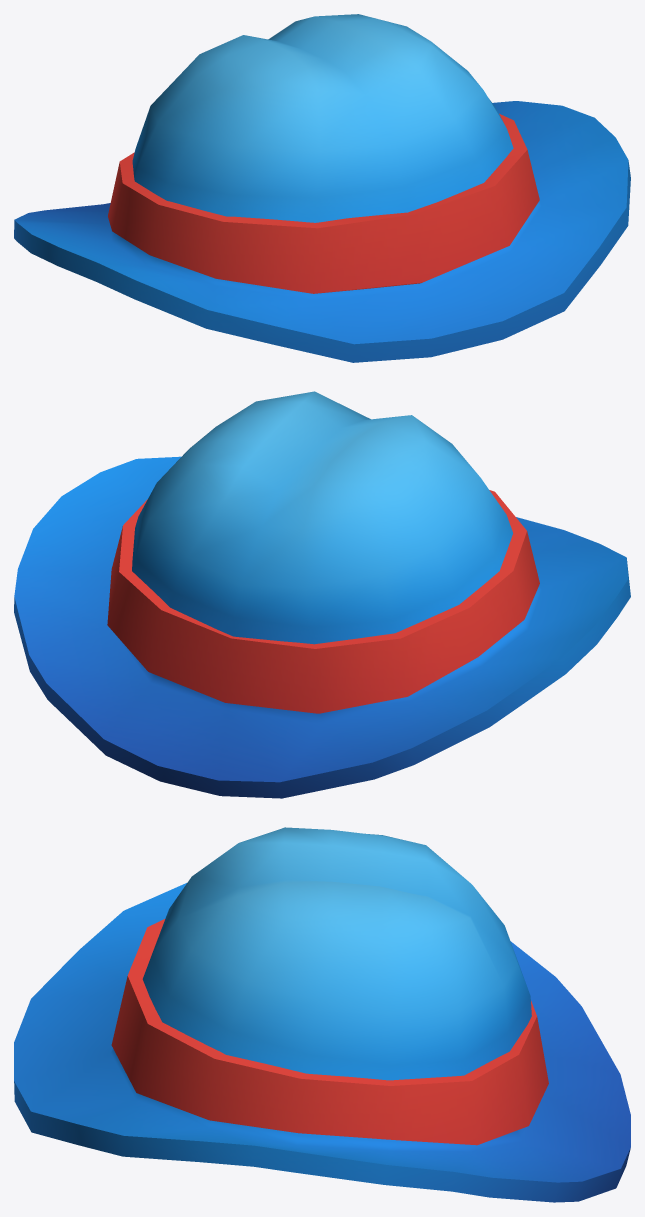
File: Hat_01.glb
The picture shows the model from 3 angles, top to bottom: view 1: azimuth 30°, elevation 25°; view 2: azimuth 150°, elevation 25°; view 3: azimuth 270°, elevation 25°; orthographic projection. The views are drawn at different scales.
Parts seen in each view (by area): view 1: Hat_01; view 2: Hat_01; view 3: Hat_01.
Part boxes in pixels (x1,y1,x2,y2): Hat_01: [14, 14, 630, 362]; Hat_01: [14, 391, 630, 798]; Hat_01: [14, 827, 630, 1202].
Size of the model in its own units: 0.9333 by 0.4358 by 0.842.
Materials: 1 (1 with a texture image).
